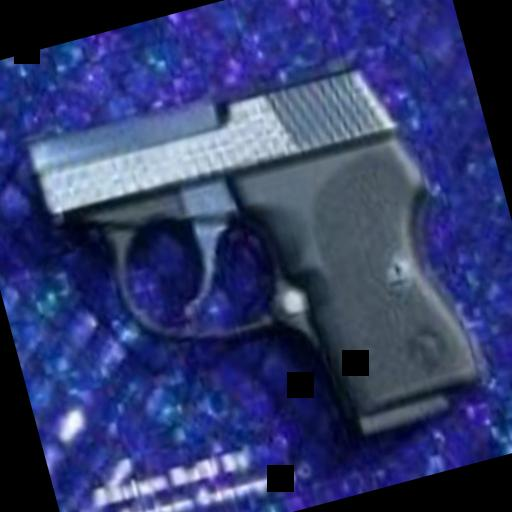Handgun: (13, 31, 495, 501)
